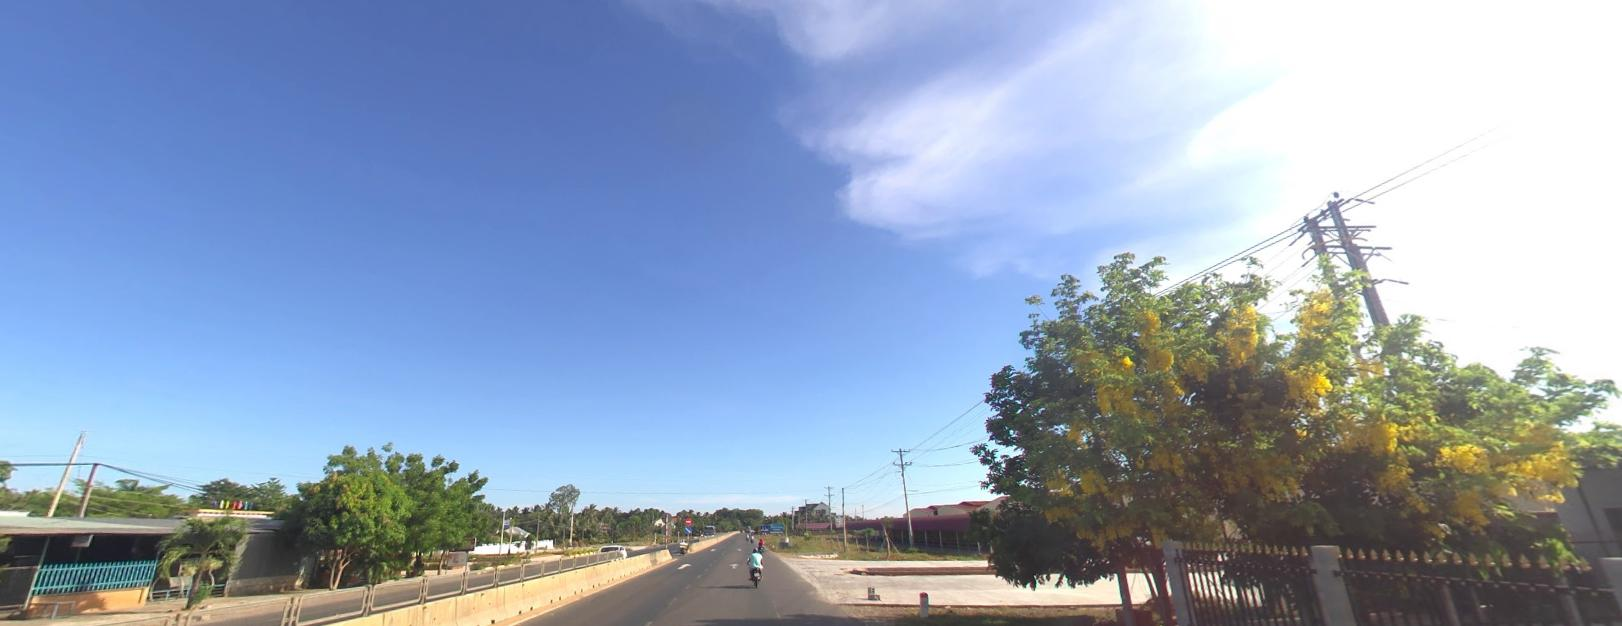Cam nguoc chieu: (684, 515, 691, 523)
Hieu lenh: (684, 524, 692, 532)
